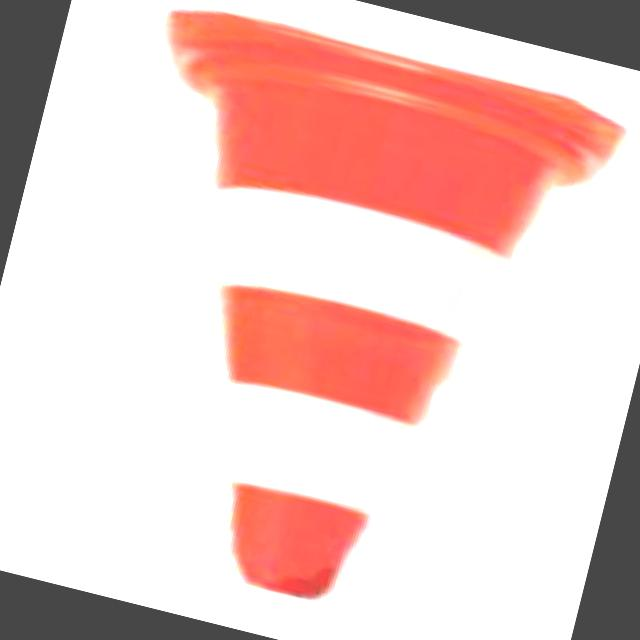cone: (32, 2, 600, 640)
